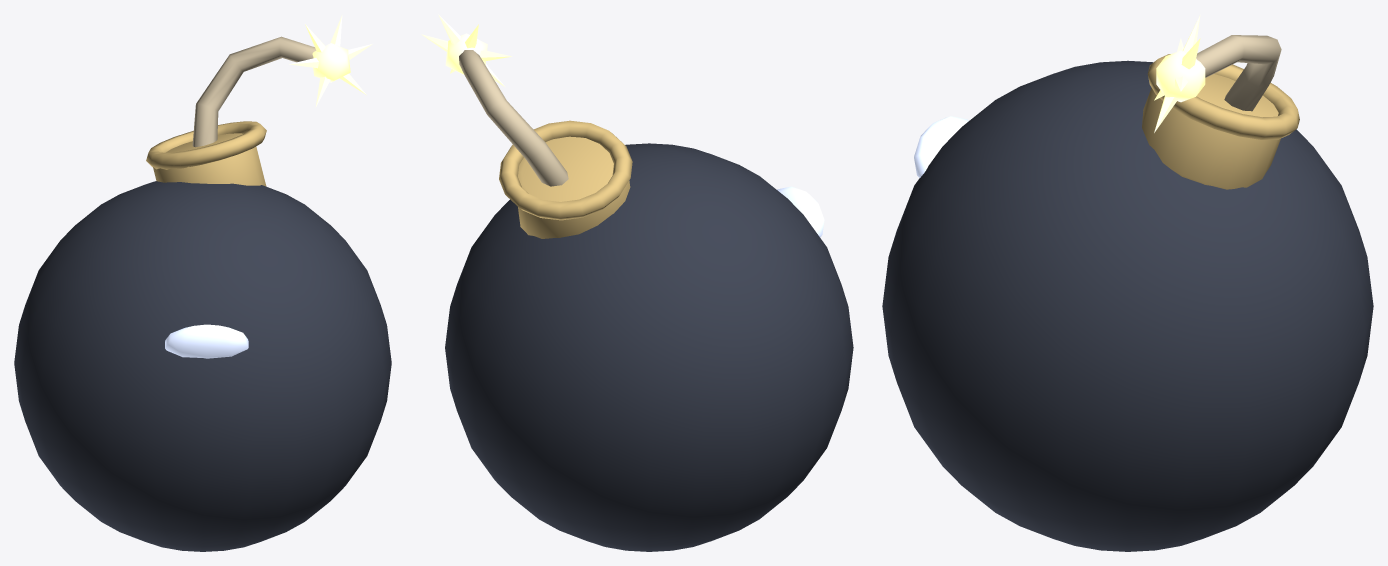
Rendered from bomb.glb.
3 views of the same model, side by side, from view 1: azimuth 30°, elevation 25°; view 2: azimuth 150°, elevation 25°; view 3: azimuth 270°, elevation 25° (orthographic). The views are drawn at different scales.
Visible parts, largest first — view 1: bomb, spark; view 2: bomb, spark; view 3: bomb, spark.
Part boxes in pixels (left/top/right/bottom): bomb: left=14, top=36, right=391, bottom=551; spark: left=289, top=15, right=372, bottom=107; bomb: left=445, top=50, right=853, bottom=551; spark: left=421, top=14, right=512, bottom=87; bomb: left=882, top=35, right=1373, bottom=551; spark: left=1154, top=14, right=1205, bottom=132.
Bounding box in the file's own units: 0.6508 × 0.8049 × 0.6.
